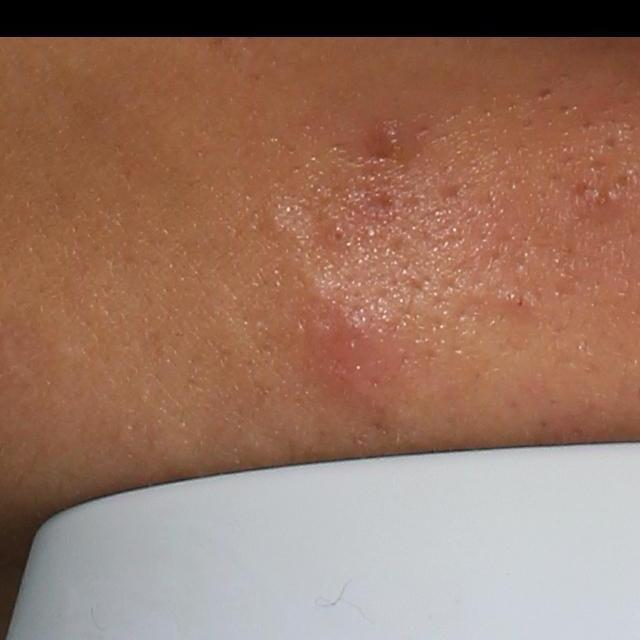atrophic_scar: (438, 178, 467, 211), (386, 233, 414, 261), (587, 155, 610, 175), (536, 87, 554, 102)
comedo: (326, 226, 347, 248)
nodule: (296, 278, 395, 401)
papule: (486, 284, 544, 323), (372, 117, 408, 158)
